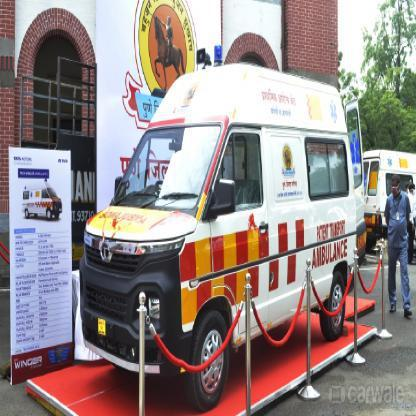ambulance_off: (79, 59, 359, 406)
